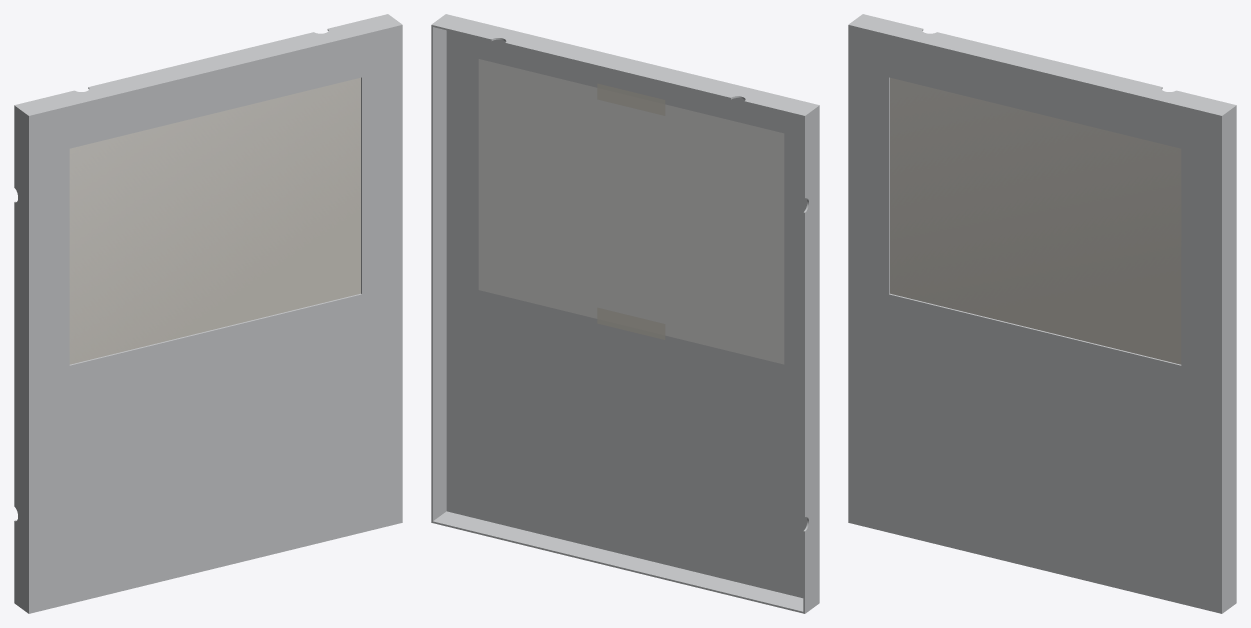
The picture shows the model from 3 angles, left to right: view 1: azimuth 30°, elevation 25°; view 2: azimuth 150°, elevation 25°; view 3: azimuth 330°, elevation 25°; orthographic projection.
Visible parts, largest first — view 1: Lintel Top 18×13; view 2: Lintel Top 18×13; view 3: Lintel Top 18×13.
Part boxes in pixels (x1,y1,x2,y2): Lintel Top 18×13: [14, 14, 402, 613]; Lintel Top 18×13: [431, 14, 819, 613]; Lintel Top 18×13: [848, 14, 1236, 613].
Bounding box in the file's own units: 0.22 × 0.28 × 0.015.
5 materials, 1 textured.
